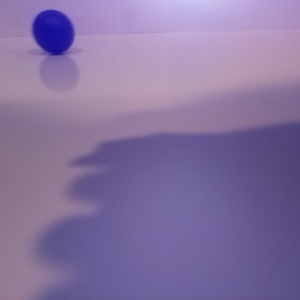alive_ball: (175, 1, 199, 24)
dead_ball: (65, 1, 96, 36)
